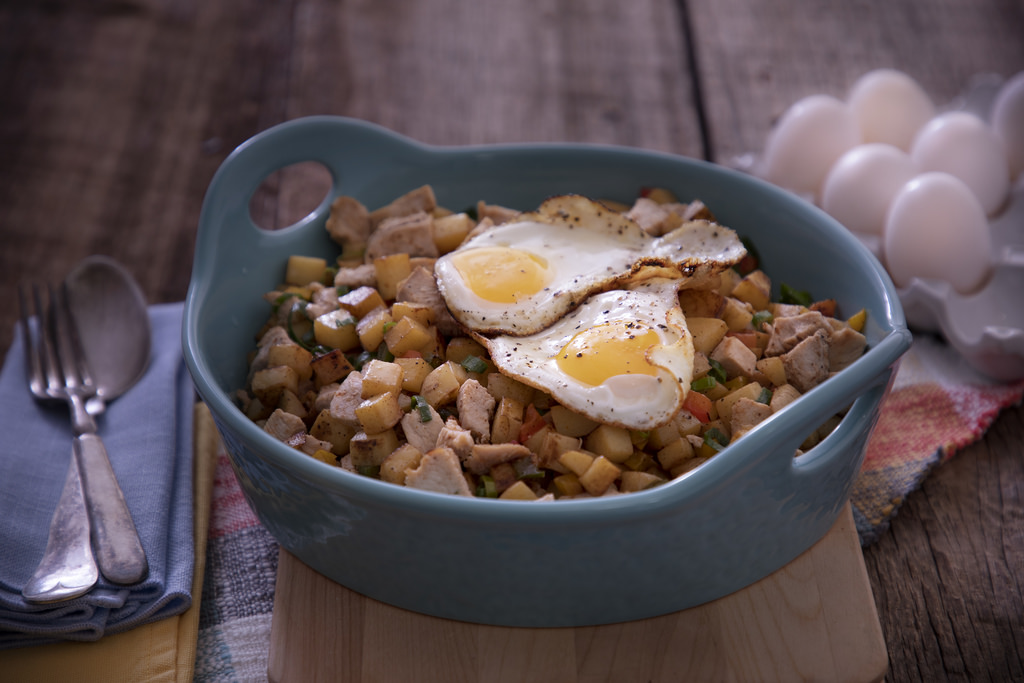fried egg: (445, 207, 691, 405)
